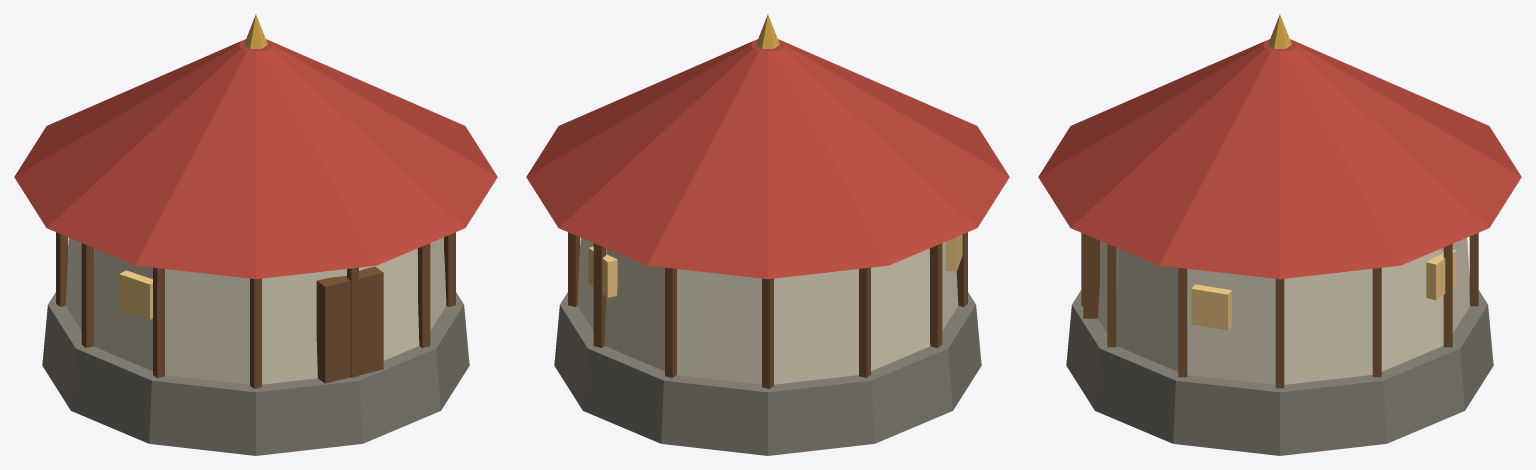
Rendered from hut_1.glb.
3 views of the same model, side by side, from view 1: azimuth 30°, elevation 25°; view 2: azimuth 150°, elevation 25°; view 3: azimuth 270°, elevation 25° (orthographic).
Parts seen in each view (by area): view 1: Hut; view 2: Hut; view 3: Hut.
Part boxes in pixels (bbox=[...]): Hut: bbox=[14, 14, 497, 455]; Hut: bbox=[526, 14, 1009, 455]; Hut: bbox=[1038, 14, 1521, 455].
Bounding box in the file's own units: 8.6 × 6.9 × 8.6.
